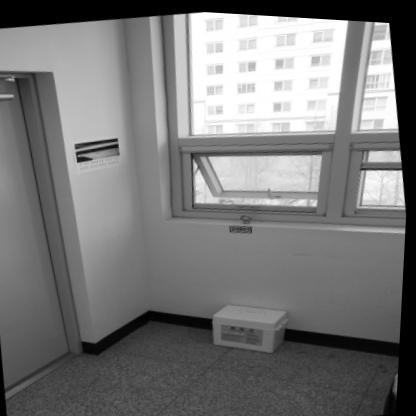DDL: (209, 291, 296, 357)
